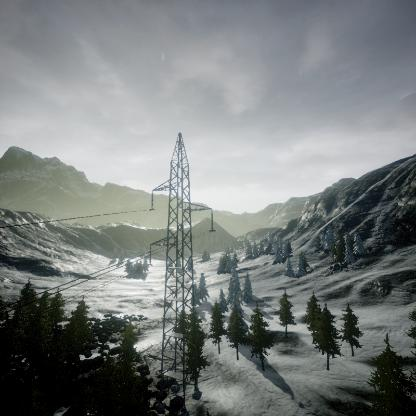tower: (147, 131, 217, 383)
